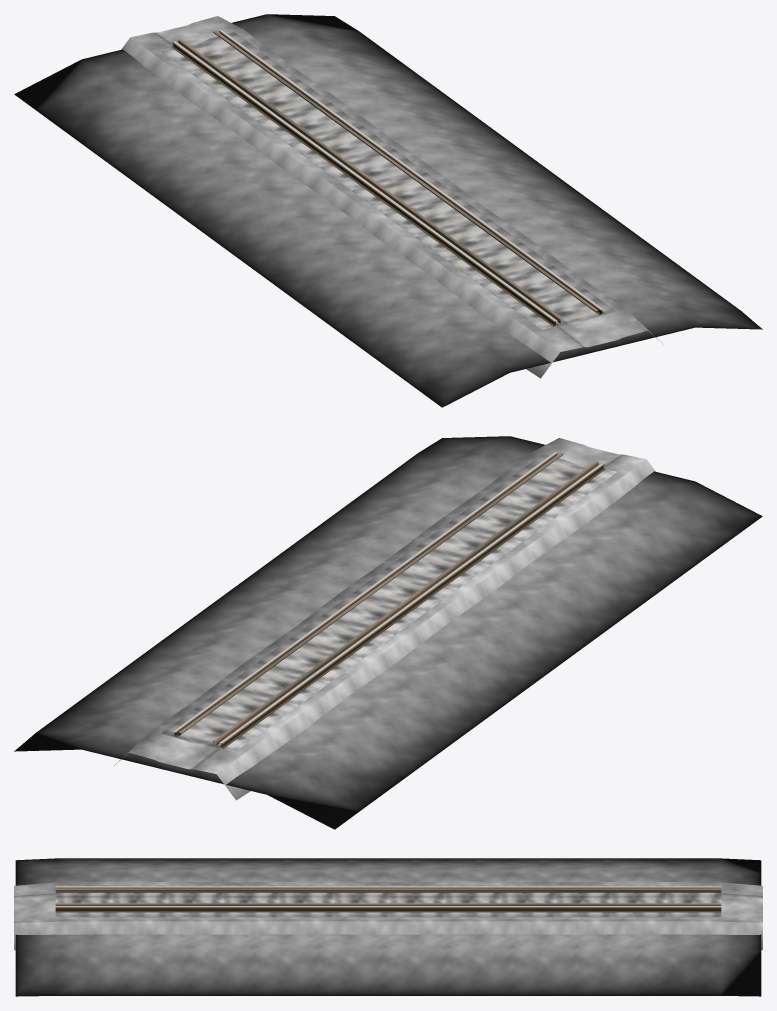
Rendered from NK_1RAIL_50_JIMEN.glb.
3 views of the same model, one above another, from view 1: azimuth 30°, elevation 25°; view 2: azimuth 150°, elevation 25°; view 3: azimuth 270°, elevation 25° (orthographic). The views are drawn at different scales.
Visible parts, largest first — view 1: obj2, R000_RG_R1, R000_RG_L1; view 2: obj2, R000_RG_R1, R000_RG_L1; view 3: obj2, R000_RG_R1, R000_RG_L1.
Part boxes in pixels (x1,y1,x2,y2): obj2: (14,14,762,407); R000_RG_R1: (178,39,562,323); R000_RG_L1: (213,30,598,312); obj2: (14,436,762,829); R000_RG_R1: (213,461,598,745); R000_RG_L1: (178,452,563,736); obj2: (14,858,762,996); R000_RG_R1: (55,888,721,891); R000_RG_L1: (55,903,721,905).
Bounding box in the file's own units: 24.42 × 2.65 × 56.25.
6 materials, 5 textured.
